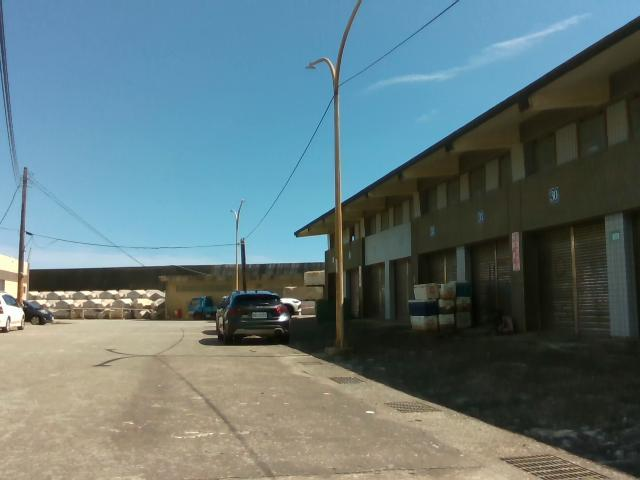pollute: (404, 281, 475, 331)
